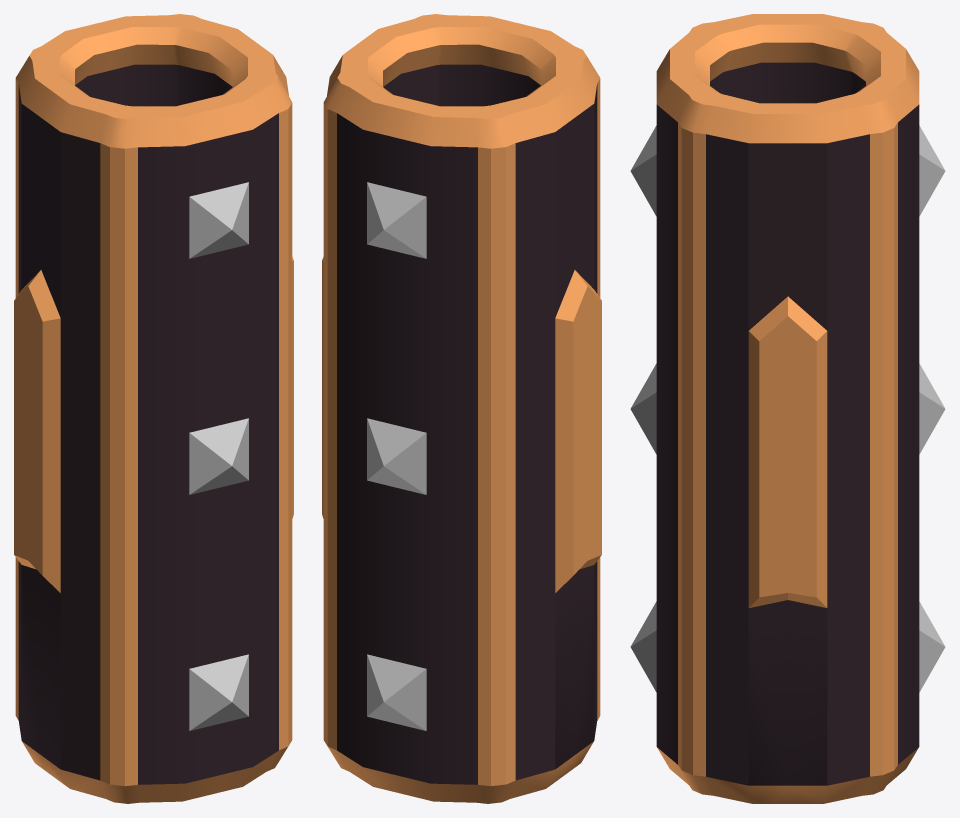
Rendered from YK_Wing_Prop.obj.
The picture shows the model from 3 angles, left to right: view 1: azimuth 30°, elevation 25°; view 2: azimuth 150°, elevation 25°; view 3: azimuth 270°, elevation 25°; orthographic projection.
Parts seen in each view (by area): view 1: Cube.019, BF_Block_111.044; view 2: Cube.019, BF_Block_111.044; view 3: Cube.019, BF_Block_111.044.
Boxes of the visible parts, x1,y1,x2,y2 form: Cube.019: (14, 14, 293, 803); BF_Block_111.044: (189, 182, 248, 730); Cube.019: (322, 14, 601, 803); BF_Block_111.044: (367, 182, 426, 730); Cube.019: (656, 14, 919, 803); BF_Block_111.044: (630, 125, 945, 692).
Size of the model in its own units: 1.11 by 2.9 by 1.2.
